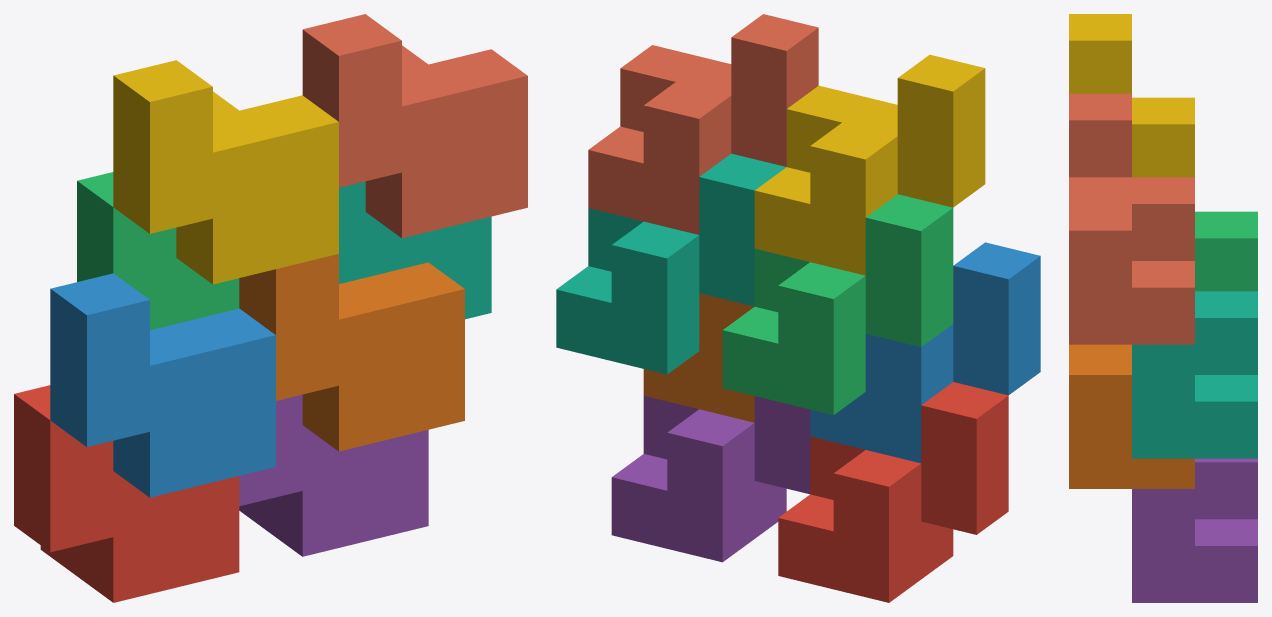
File: tiling.obj
The picture shows the model from 3 angles, left to right: view 1: azimuth 30°, elevation 25°; view 2: azimuth 150°, elevation 25°; view 3: azimuth 270°, elevation 25°; orthographic projection. The views are drawn at different scales.
Visible parts, largest first — view 1: copy_1_domain_4, copy_1_domain_2, copy_1_domain_8, copy_1_domain_6, copy_1_domain_1, copy_1_domain_5, copy_1_domain_3, copy_1_domain_7; view 2: copy_1_domain_1, copy_1_domain_4, copy_1_domain_3, copy_1_domain_8, copy_1_domain_7, copy_1_domain_5, copy_1_domain_2, copy_1_domain_6; view 3: copy_1_domain_8, copy_1_domain_7, copy_1_domain_5, copy_1_domain_6, copy_1_domain_4, copy_1_domain_3.
Part boxes in pixels (<box>): copy_1_domain_4: <box>113,60,338,284</box>; copy_1_domain_2: <box>50,273,275,497</box>; copy_1_domain_8: <box>302,14,527,238</box>; copy_1_domain_6: <box>239,254,464,451</box>; copy_1_domain_1: <box>14,385,239,602</box>; copy_1_domain_5: <box>239,394,428,556</box>; copy_1_domain_3: <box>77,172,239,330</box>; copy_1_domain_7: <box>339,181,491,319</box>; copy_1_domain_1: <box>778,382,1008,602</box>; copy_1_domain_4: <box>754,54,985,275</box>; copy_1_domain_3: <box>722,194,953,414</box>; copy_1_domain_8: <box>588,14,818,234</box>; copy_1_domain_7: <box>556,153,786,374</box>; copy_1_domain_5: <box>611,396,810,562</box>; copy_1_domain_2: <box>810,242,1040,463</box>; copy_1_domain_6: <box>643,293,754,422</box>; copy_1_domain_8: <box>1069,93,1194,344</box>; copy_1_domain_7: <box>1132,291,1257,458</box>; copy_1_domain_5: <box>1132,458,1257,602</box>; copy_1_domain_6: <box>1069,344,1194,488</box>; copy_1_domain_4: <box>1069,14,1194,177</box>; copy_1_domain_3: <box>1195,211,1257,291</box>.
Size of the model in its own units: 7 by 8 by 3.
